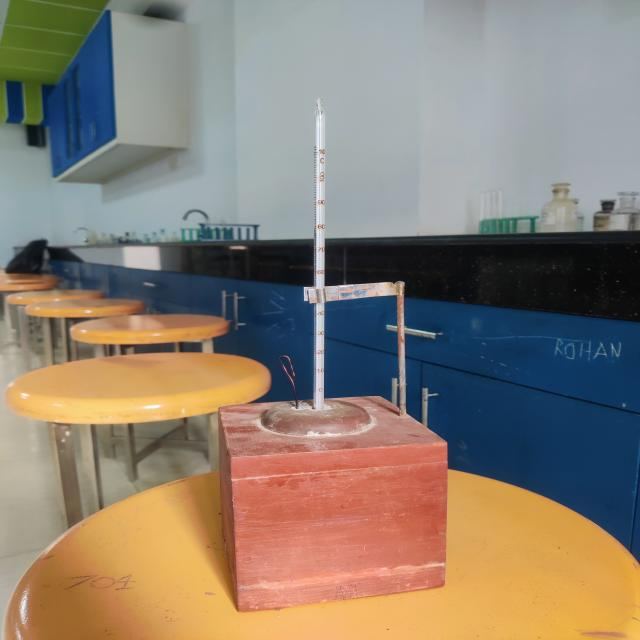Calorimeter: (162, 75, 506, 632)
